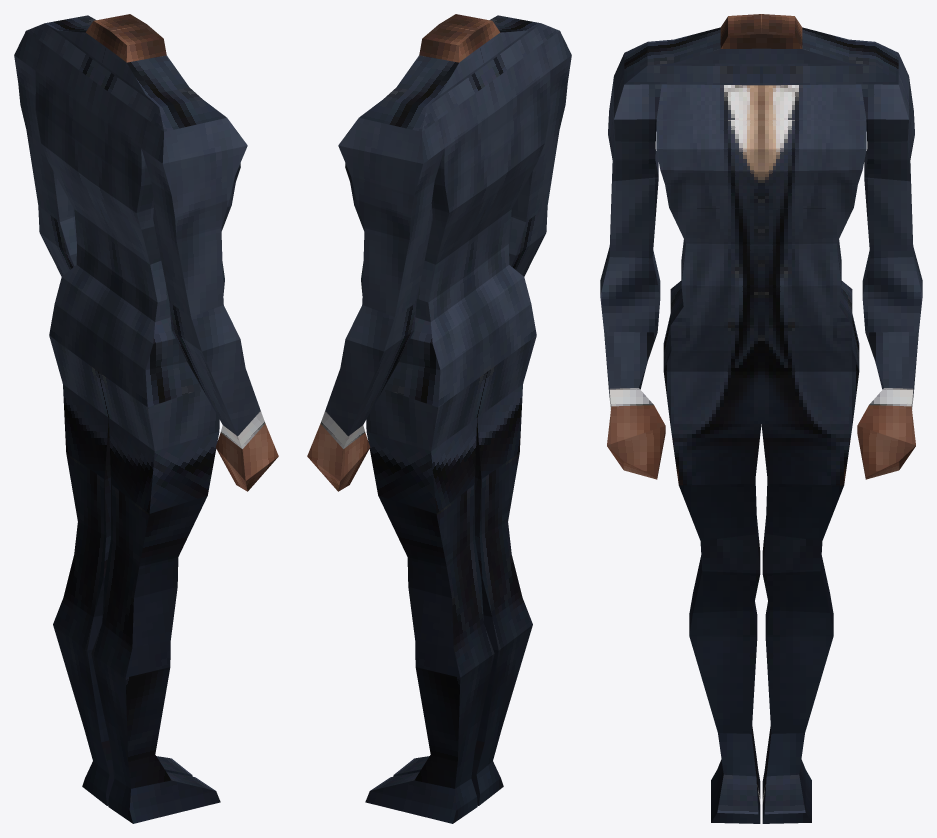
Rendered from character.glb.
3 renders of one model, left to right at view 1: azimuth 30°, elevation 25°; view 2: azimuth 150°, elevation 25°; view 3: azimuth 270°, elevation 25°, orthographic.
Parts seen in each view (by area): view 1: Cube; view 2: Cube; view 3: Cube.
Boxes of the visible parts, x1,y1,x2,y2 form: Cube: [14, 14, 278, 823]; Cube: [307, 14, 571, 823]; Cube: [600, 14, 922, 823].
Size of the model in its own units: 0.5468 by 3.59 by 1.36.
Materials: 1 (1 with a texture image).
